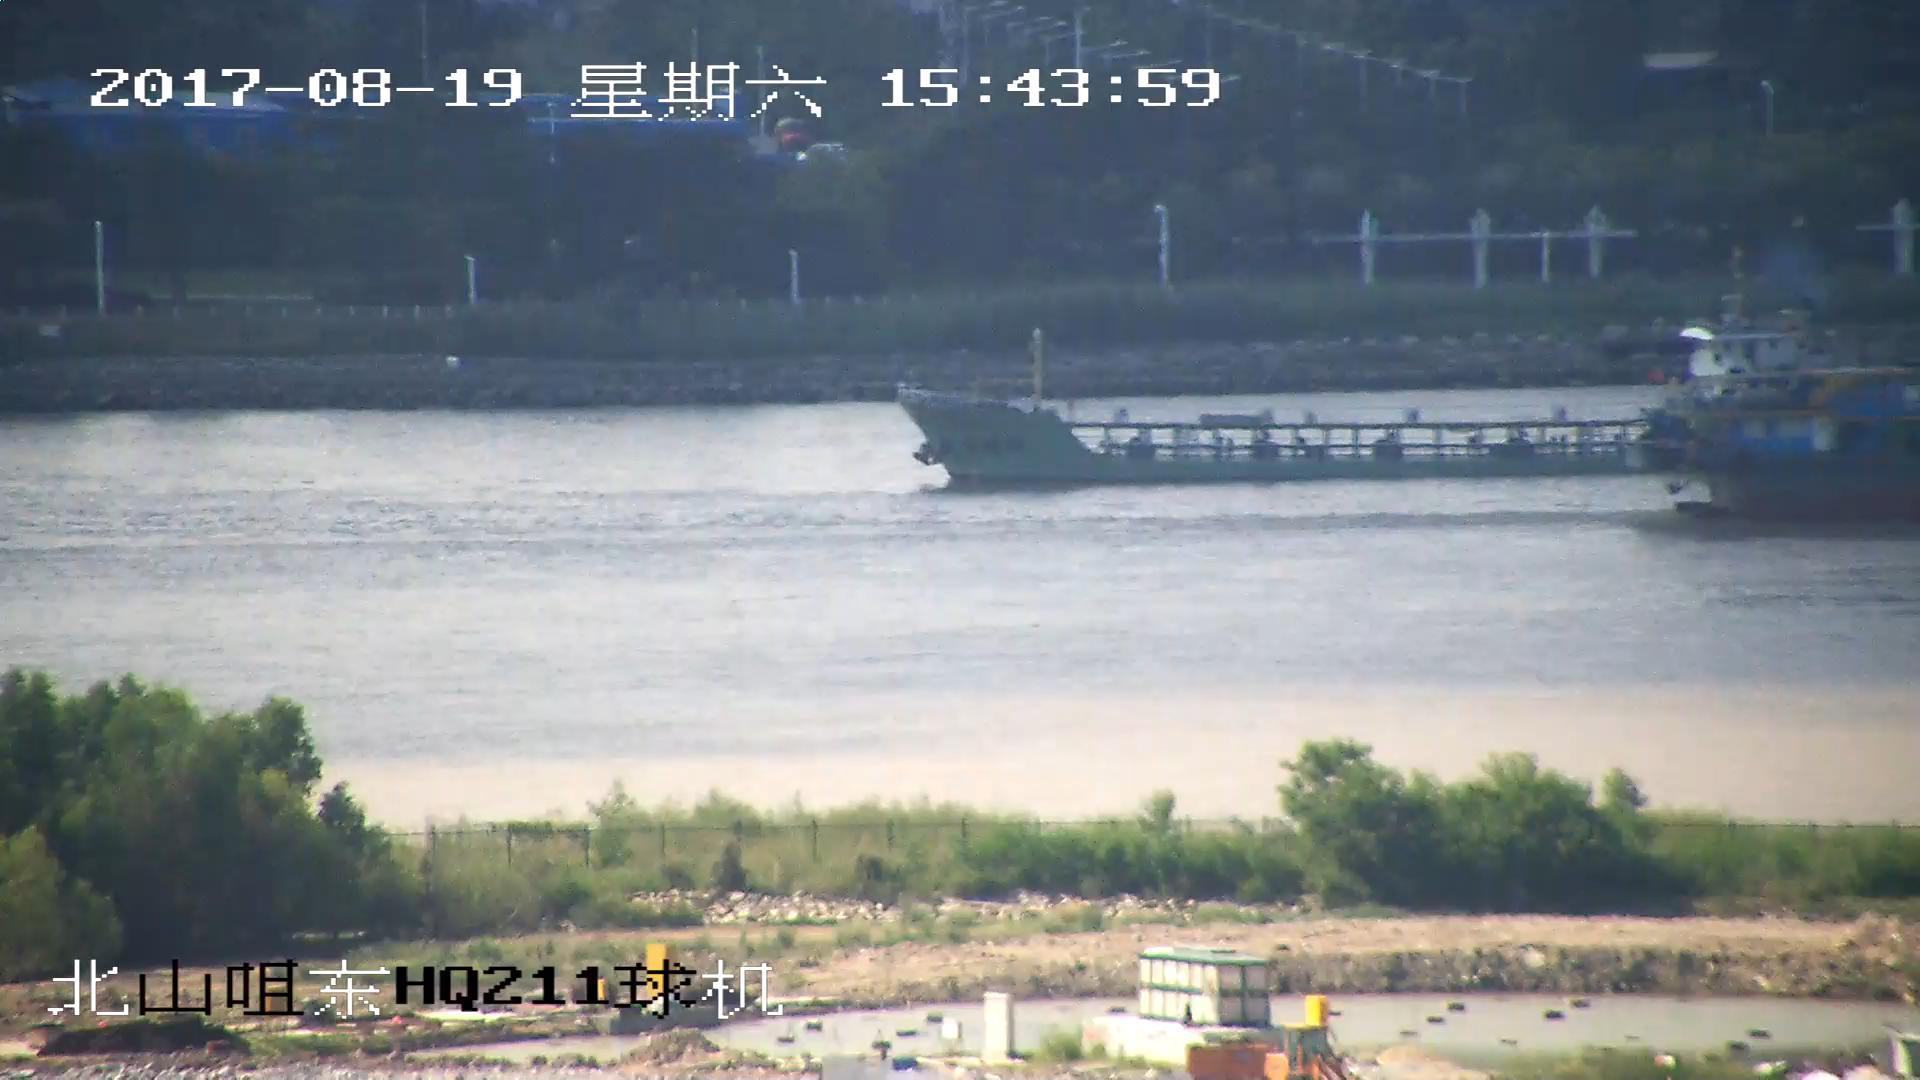Ship: (898, 305, 1920, 487)
